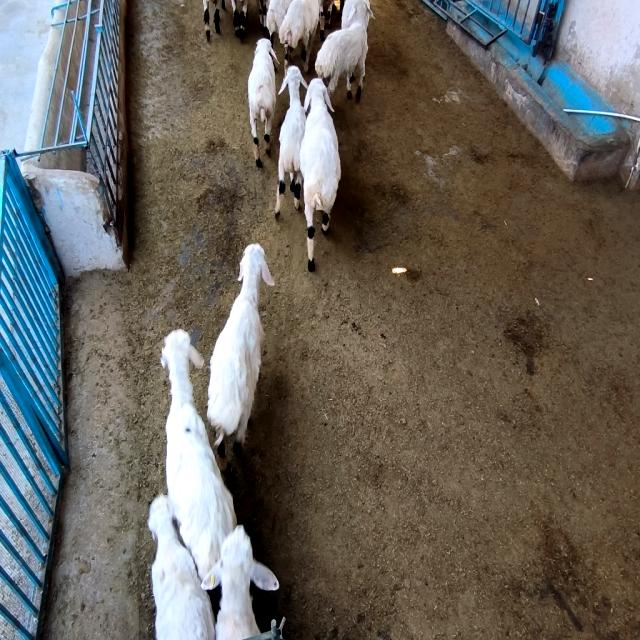sheep: (161, 330, 236, 579), (208, 243, 275, 470), (149, 495, 215, 640), (201, 525, 279, 640), (300, 78, 341, 272), (315, 0, 374, 98), (275, 65, 308, 216), (248, 38, 278, 166), (279, 0, 319, 71)
